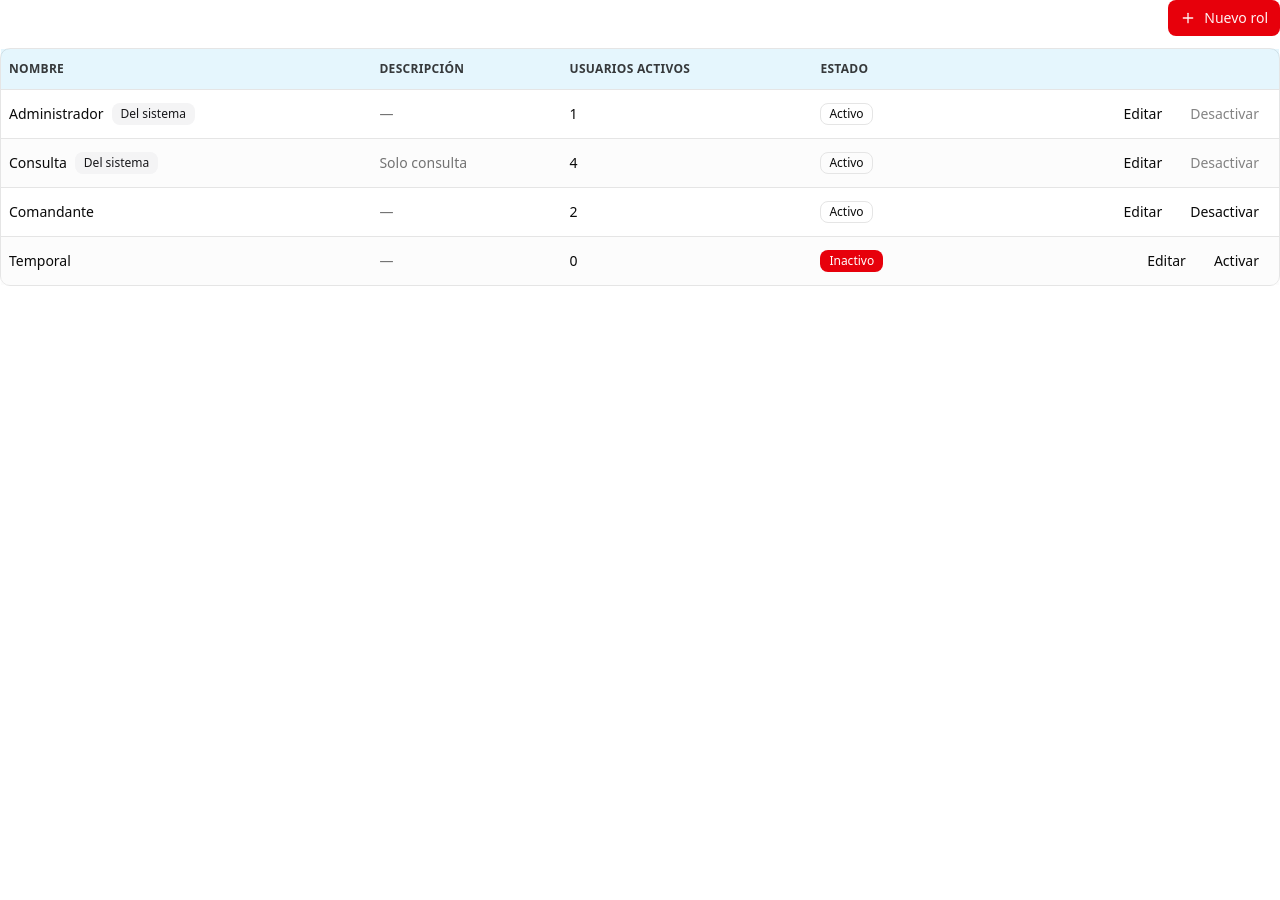
Scenario: RolesTab (US4, FR-013) › muestra en el campo el error 422 del backend
Expected: the row "Comandante — 2 Activo Editar Desactivar" is shown, [1,187,1279,236]
Click the button "Nuevo rol": {"x": 1224, "y": 18} [1168,0,1279,36]
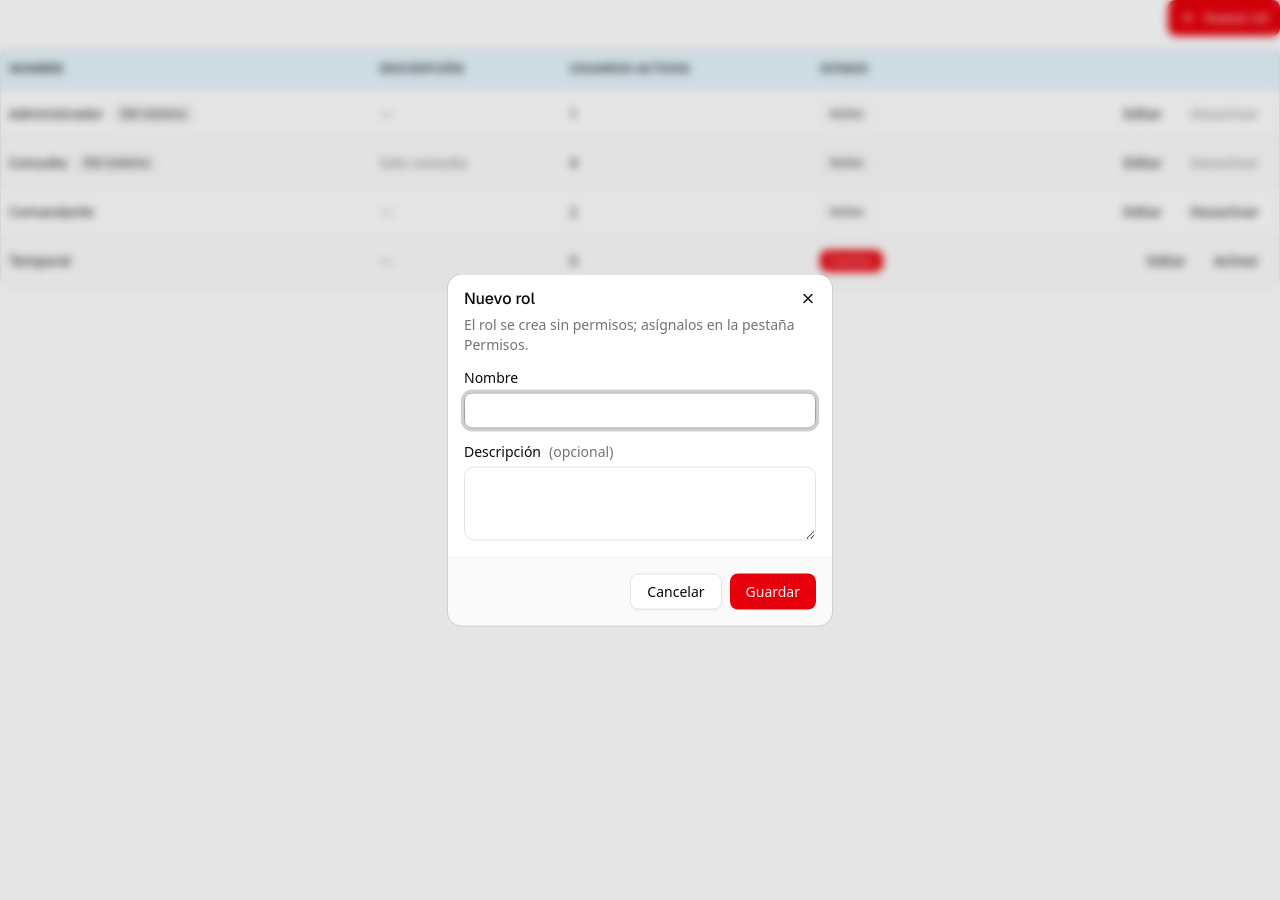
In the field labelled "Nombre": {"x": 640, "y": 410} [464,392,816,428], type "consulta"
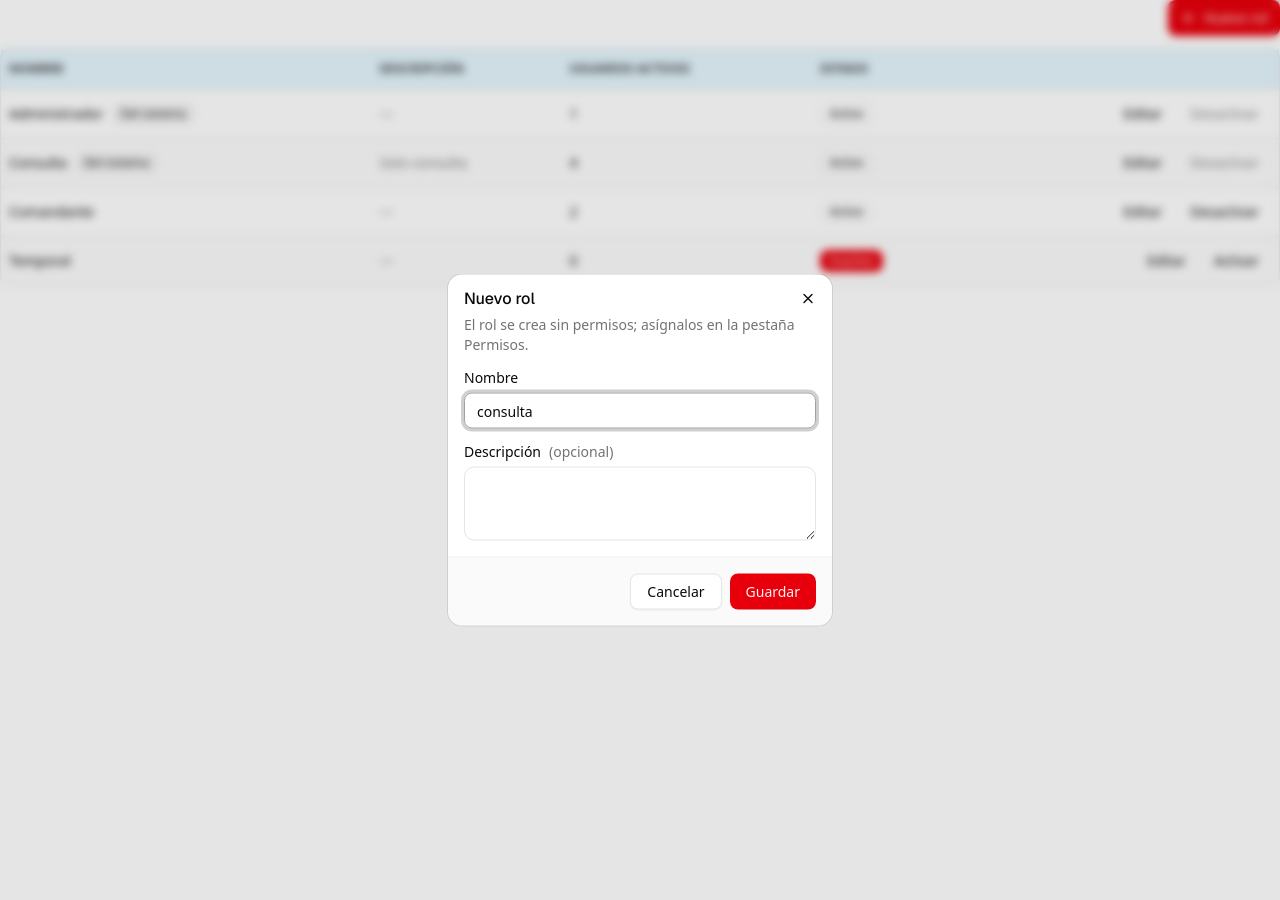
Click the button "Guardar": {"x": 773, "y": 592} [730,574,816,610]
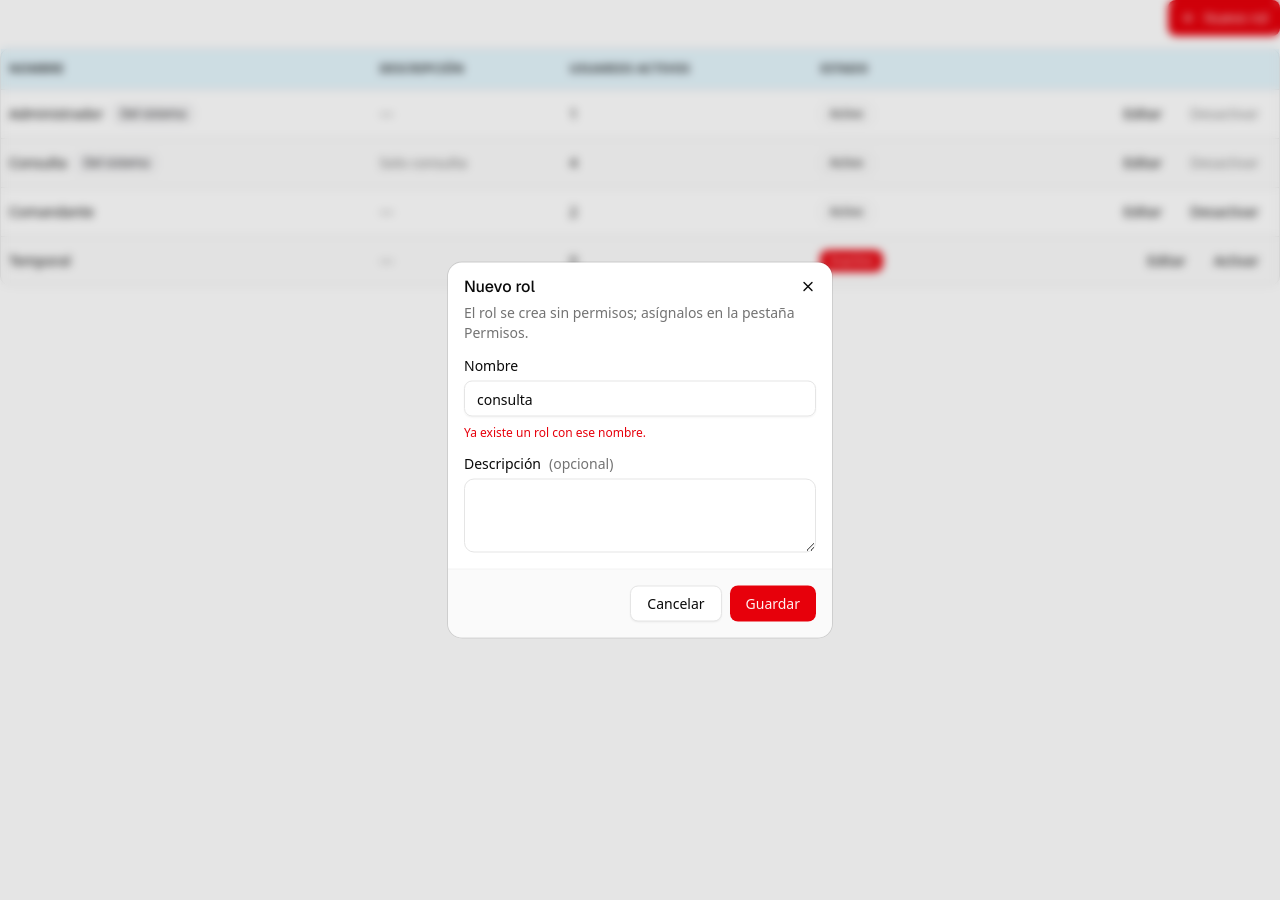
Expected: the text "Ya existe un rol con ese nombre." is shown, [464,424,646,440]
